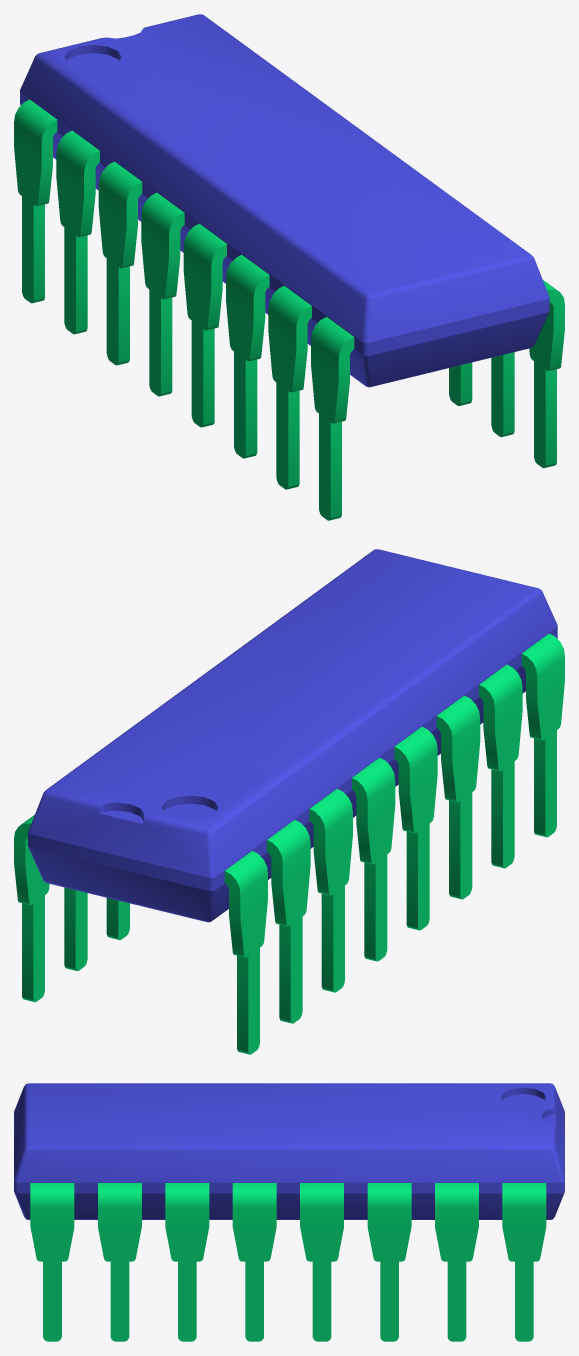
File: dip16.fbx
3 renders of one model, top to bottom at view 1: azimuth 30°, elevation 25°; view 2: azimuth 150°, elevation 25°; view 3: azimuth 270°, elevation 25°, orthographic. The views are drawn at different scales.
Parts seen in each view (by area): view 1: Cube.014, Cube.022, Cube.021, Cube.019, Cube.017, Cube.015, Cube.018, Cube.020, Cube.016; view 2: Cube.014, Cube.016, Cube.015, Cube.017, Cube.019, Cube.021, Cube.020, Cube.018, Cube.022; view 3: Cube.014, Cube.015, Cube.018, Cube.021, Cube.016, Cube.019, Cube.017, Cube.020, Cube.022.
Part boxes in pixels (bbox=[...]): Cube.014: bbox=[20, 14, 549, 387]; Cube.022: bbox=[311, 280, 564, 520]; Cube.021: bbox=[268, 286, 514, 489]; Cube.019: bbox=[226, 254, 472, 458]; Cube.017: bbox=[98, 161, 142, 365]; Cube.015: bbox=[56, 130, 99, 334]; Cube.018: bbox=[141, 192, 184, 396]; Cube.020: bbox=[183, 223, 226, 427]; Cube.016: bbox=[14, 99, 57, 303]; Cube.014: bbox=[28, 549, 557, 922]; Cube.016: bbox=[14, 815, 267, 1054]; Cube.015: bbox=[64, 820, 310, 1023]; Cube.017: bbox=[106, 788, 352, 992]; Cube.019: bbox=[436, 695, 480, 899]; Cube.021: bbox=[479, 664, 522, 868]; Cube.020: bbox=[394, 726, 437, 930]; Cube.018: bbox=[352, 757, 395, 961]; Cube.022: bbox=[521, 633, 564, 837]; Cube.014: bbox=[14, 1083, 564, 1219]; Cube.015: bbox=[435, 1183, 478, 1341]; Cube.018: bbox=[300, 1183, 343, 1341]; Cube.021: bbox=[98, 1183, 141, 1341]; Cube.016: bbox=[502, 1183, 546, 1341]; Cube.019: bbox=[165, 1183, 209, 1341]; Cube.017: bbox=[367, 1183, 411, 1341]; Cube.020: bbox=[232, 1183, 276, 1341]; Cube.022: bbox=[30, 1183, 74, 1341].
Bounding box in the file's own units: 546 × 526 × 1447.
